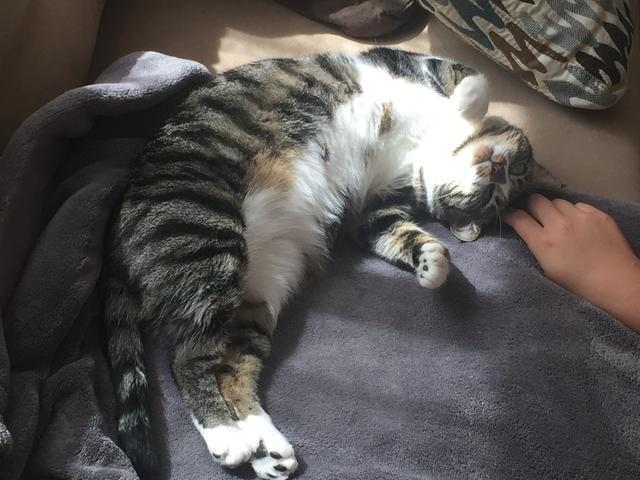playdoh: (95, 45, 570, 480)
